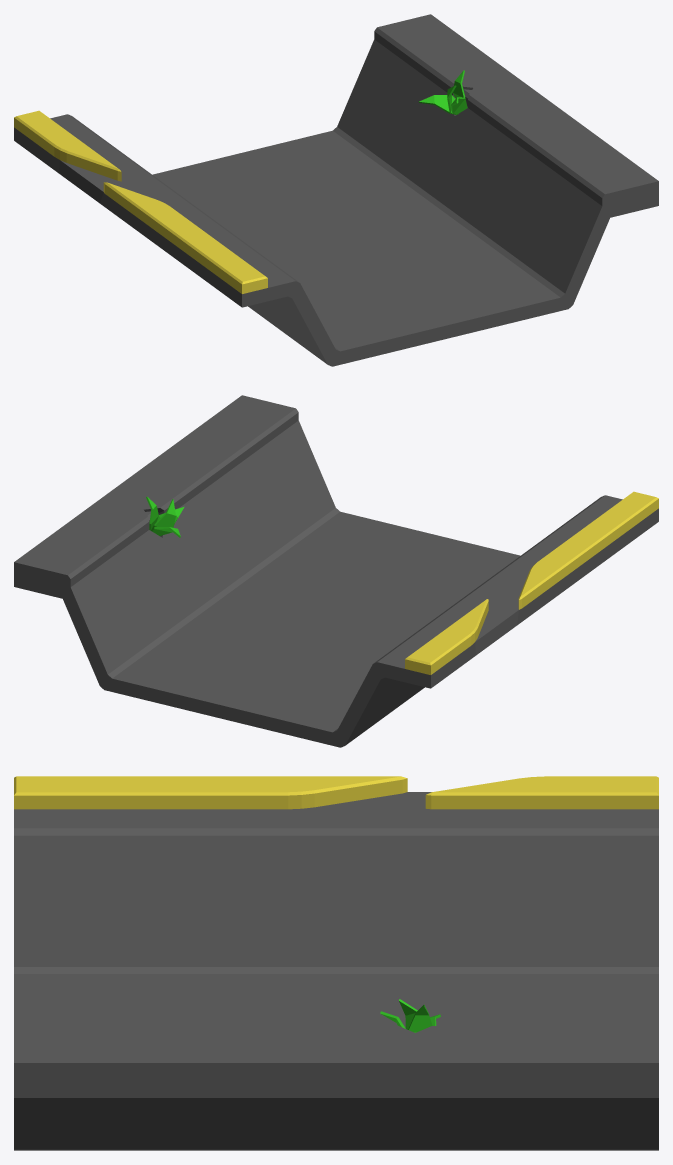
File: Modulo.002 (1).glb
3 renders of one model, top to bottom at view 1: azimuth 30°, elevation 25°; view 2: azimuth 150°, elevation 25°; view 3: azimuth 270°, elevation 25°, orthographic. The views are drawn at different scales.
Visible parts, largest first — view 1: Modulo.002; view 2: Modulo.002; view 3: Modulo.002.
Part boxes in pixels (<box>): Modulo.002: <box>14,14,658,366</box>; Modulo.002: <box>14,395,658,747</box>; Modulo.002: <box>14,776,658,1150</box>.
Bounding box in the file's own units: 32.52 × 9.17 × 30.82.
